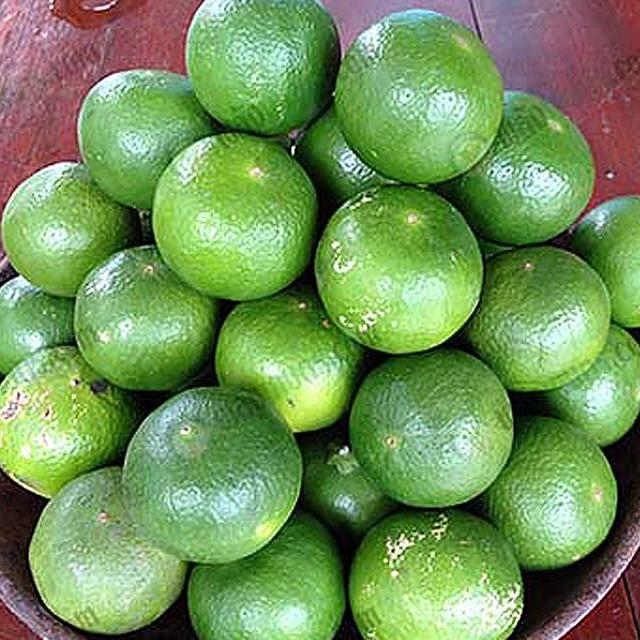lime: (306, 180, 502, 366), (120, 376, 308, 568), (140, 121, 326, 312), (332, 11, 512, 198), (22, 456, 196, 640), (342, 342, 524, 509), (438, 84, 602, 244), (66, 244, 230, 402), (470, 410, 626, 574), (342, 507, 532, 640), (212, 290, 366, 446), (464, 238, 610, 400), (178, 0, 344, 139), (0, 343, 140, 503), (74, 54, 216, 210), (0, 155, 152, 299), (192, 509, 348, 640), (0, 257, 100, 397), (542, 321, 640, 449), (580, 191, 640, 339)
